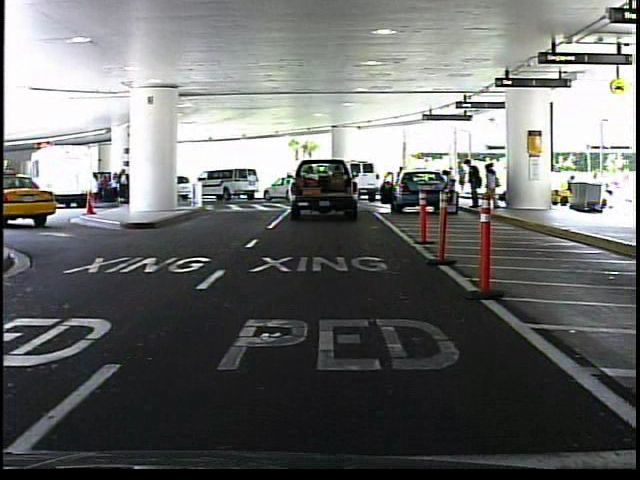person: (442, 165, 460, 211), (395, 163, 411, 204)
